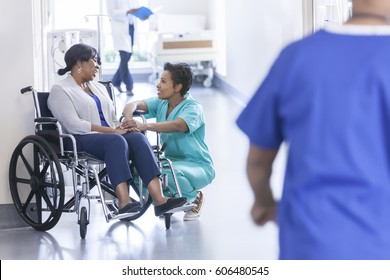wheelchair: (8, 44, 192, 240)
